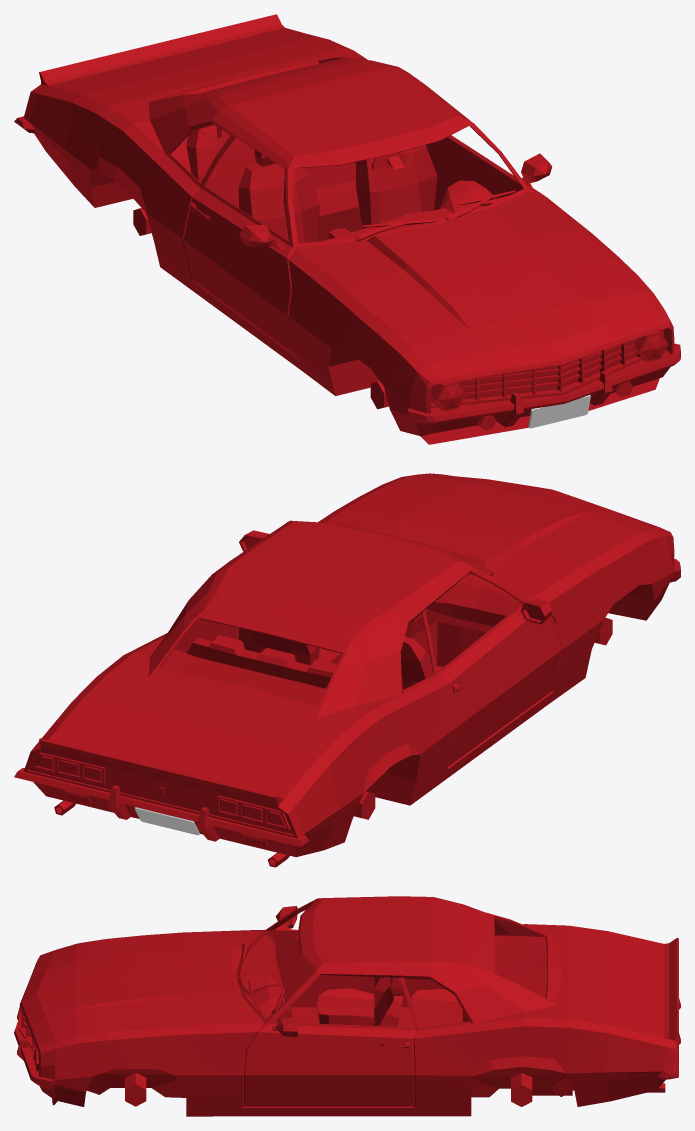
Rendered from LORI_BOD.fbx.
3 views of the same model, one above another, from view 1: azimuth 30°, elevation 25°; view 2: azimuth 150°, elevation 25°; view 3: azimuth 270°, elevation 25° (orthographic). The views are drawn at different scales.
Visible parts, largest first — view 1: LORI_BOD, SM_Veh_Car_Muscle_Plates; view 2: LORI_BOD, SM_Veh_Car_Muscle_Plates; view 3: LORI_BOD.
Boxes of the visible parts, x1,y1,x2,y2 form: LORI_BOD: (14,14,680,444); SM_Veh_Car_Muscle_Plates: (528,395,590,428); LORI_BOD: (14,473,680,867); SM_Veh_Car_Muscle_Plates: (134,807,199,835); LORI_BOD: (14,896,680,1116).
Size of the model in its own units: 209 by 113 by 485.
